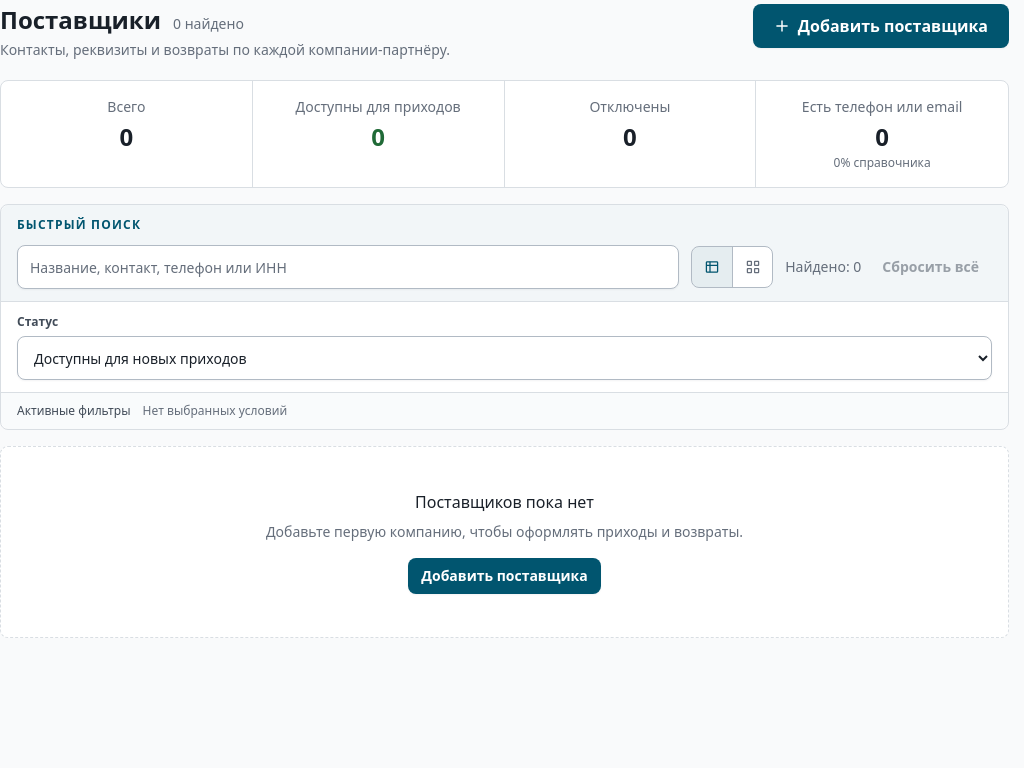
Test: SuppliersPage › warns before discarding an unfinished supplier
Expected: the text "Поставщиков пока нет" is shown, [415,490,594,514]
Click the button "Добавить поставщика" in the row of "Поставщики" at [881, 26], box [753,4,1009,48]
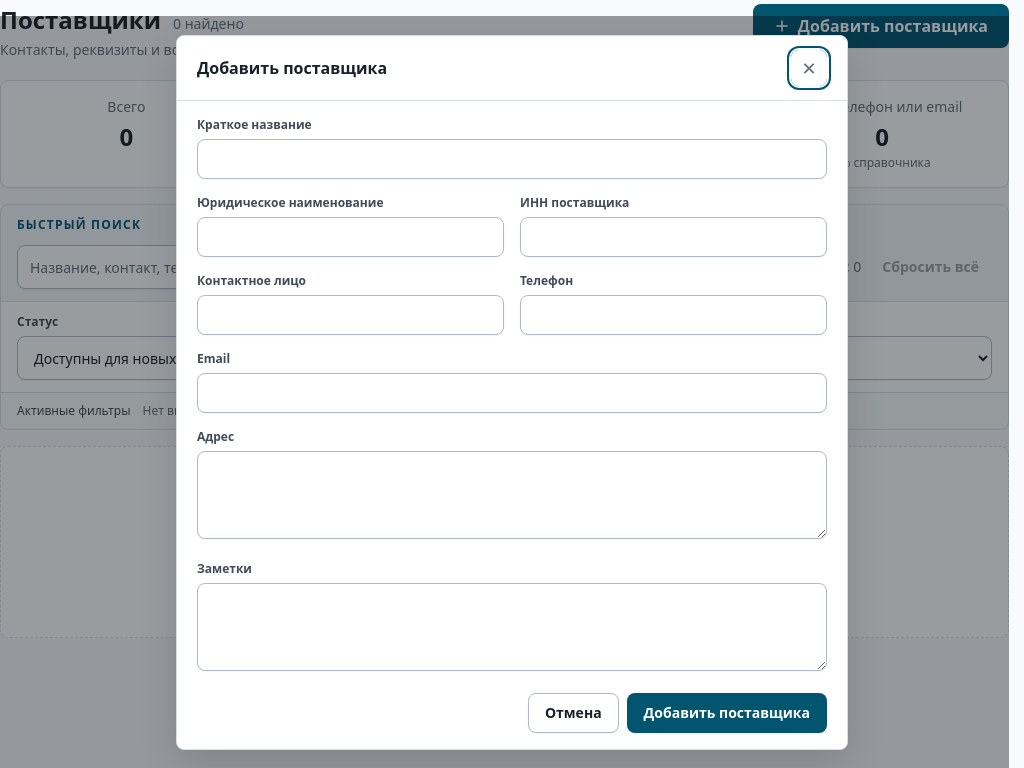
Type "Черновик" into the field labelled "Краткое название" at [512, 158], box [197,138,827,178]
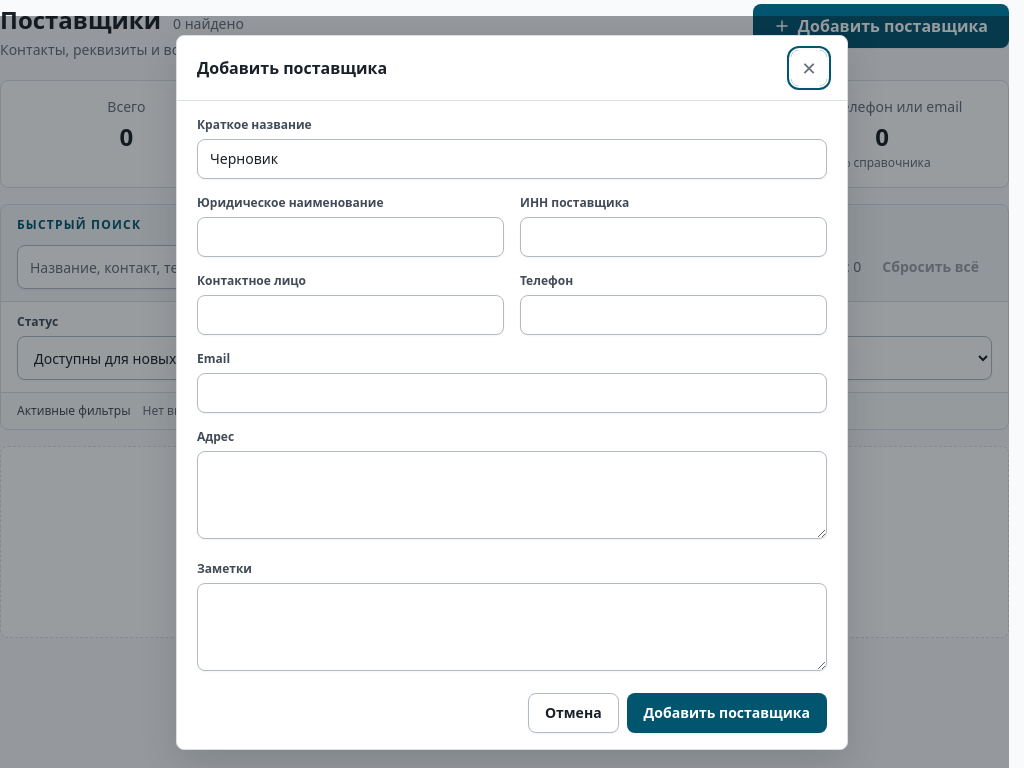
Click the button "Отмена" at [573, 712], box [528,692,619,732]
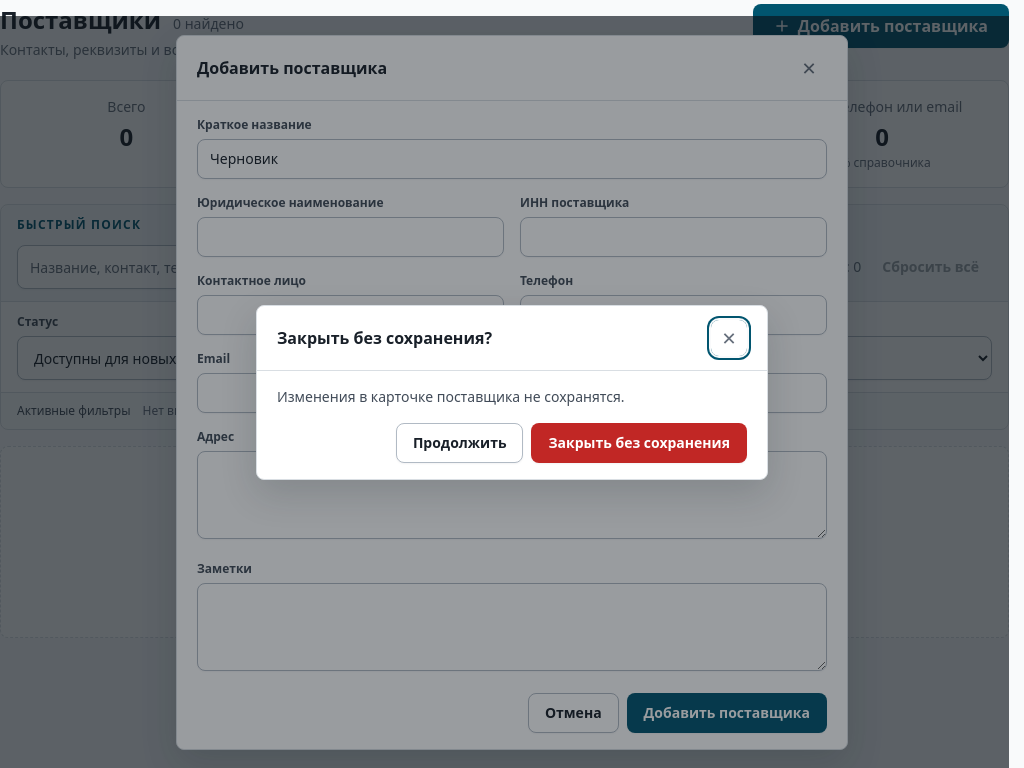
Expected: the dialog "Добавить поставщика" is shown
Expected: the dialog "Закрыть без сохранения?" is shown, [256,304,768,480]
